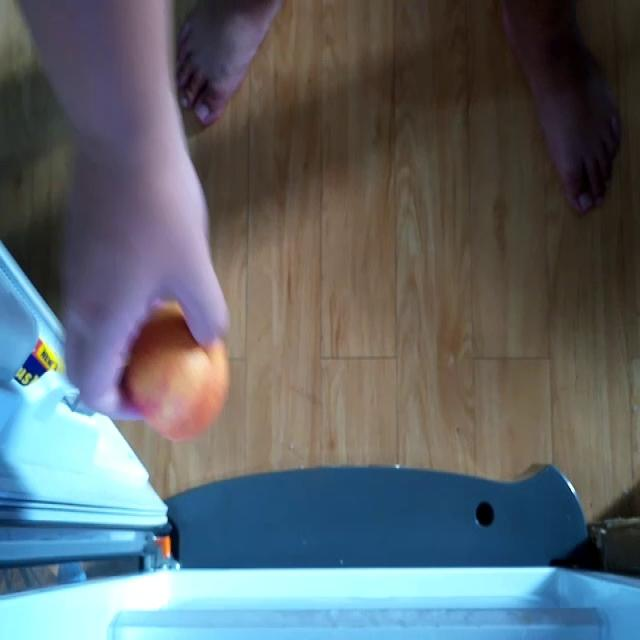apple: (116, 310, 232, 442)
